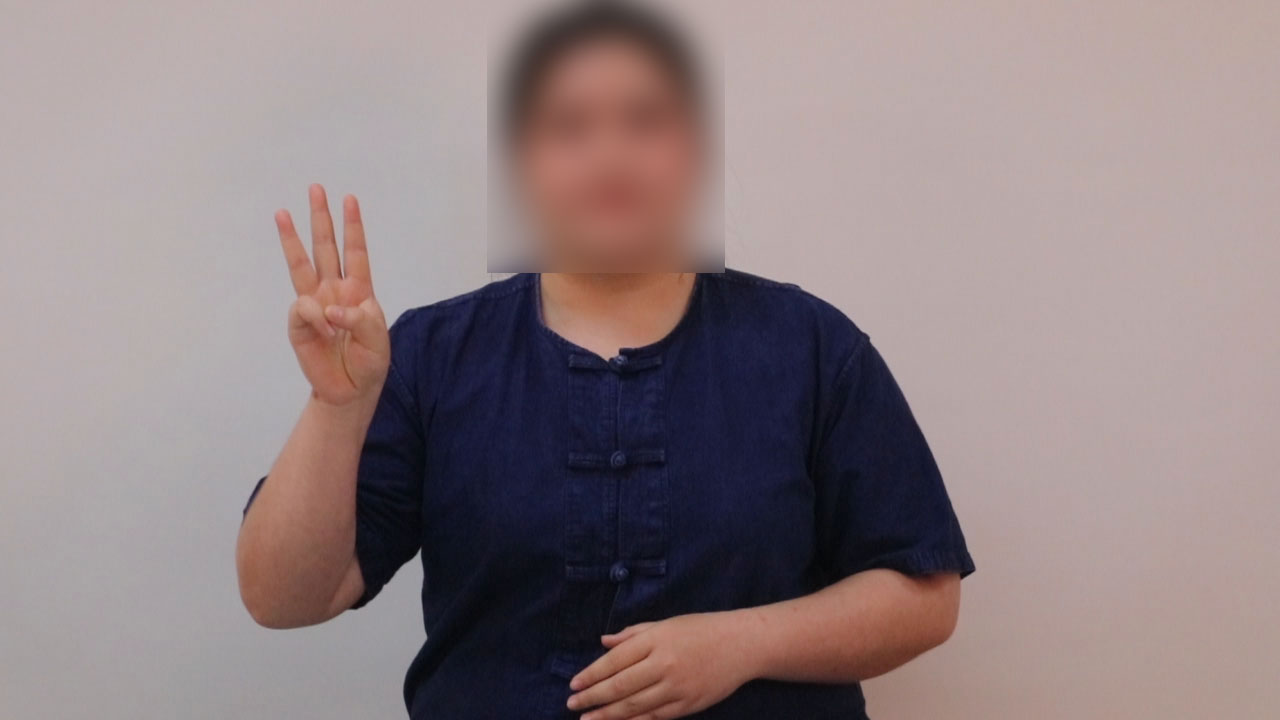wor: (264, 174, 402, 404)
